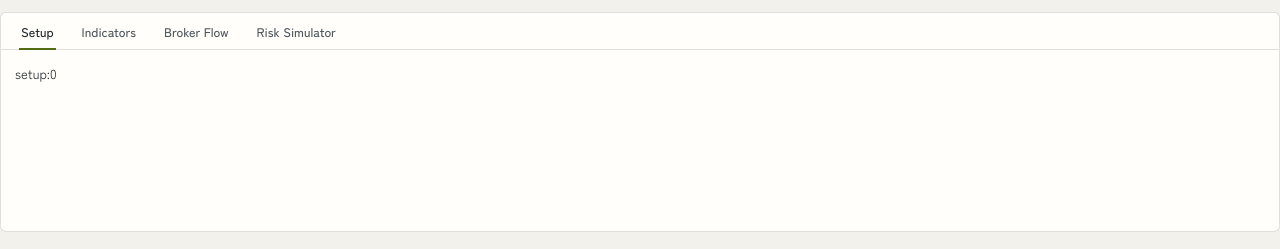
Scenario: DetailDrawer selection stability › does not reset selection when an async child update arrives after click
Click the tab "Broker Flow".
click(196, 31)  # box x1=152 y1=13 x2=241 y2=49
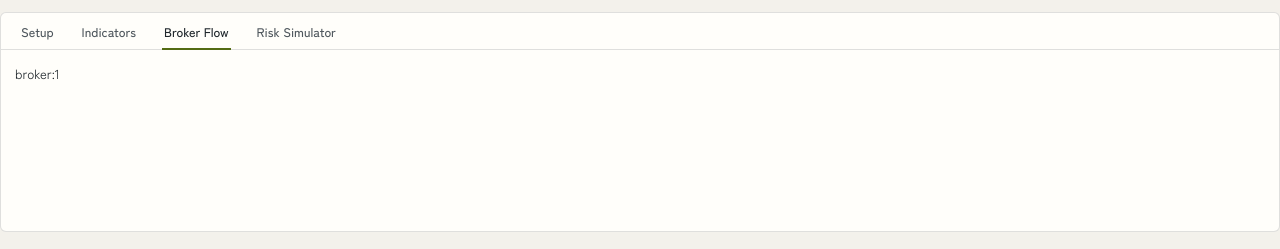
Expected: the text "broker:1" is shown, x1=15 y1=64 x2=60 y2=83
